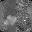people: (4, 15, 18, 26)
